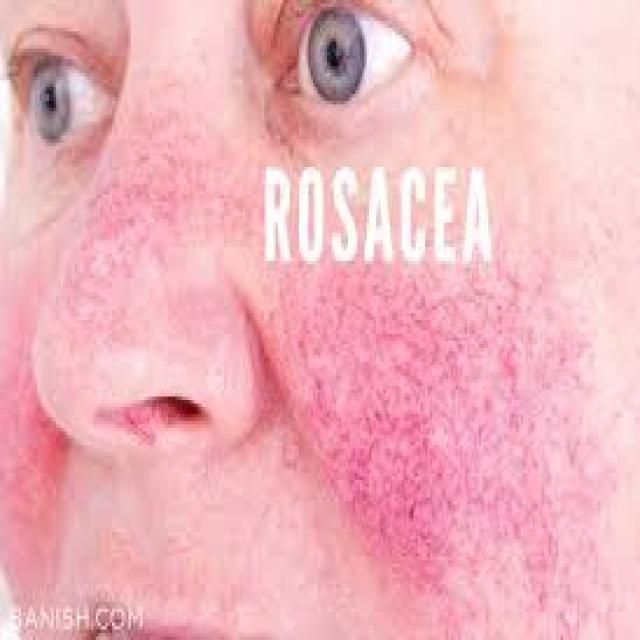Rosacea: (254, 241, 626, 640), (49, 72, 240, 371), (0, 245, 80, 615)
